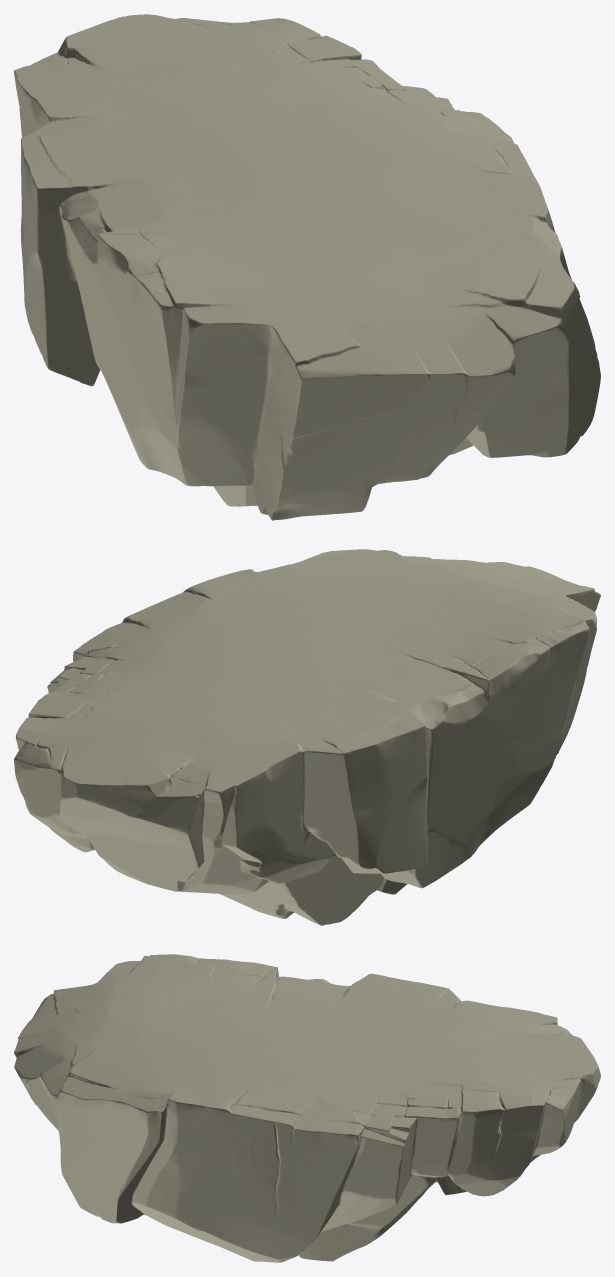
3 views of the same model, one above another, from view 1: azimuth 30°, elevation 25°; view 2: azimuth 150°, elevation 25°; view 3: azimuth 270°, elevation 25° (orthographic). The views are drawn at different scales.
Visible parts, largest first — view 1: SM_SW_Cliff_Overhang_02_LOD0; view 2: SM_SW_Cliff_Overhang_02_LOD0; view 3: SM_SW_Cliff_Overhang_02_LOD0.
Part boxes in pixels (bbox=[...]): SM_SW_Cliff_Overhang_02_LOD0: bbox=[14, 14, 600, 520]; SM_SW_Cliff_Overhang_02_LOD0: bbox=[14, 549, 600, 925]; SM_SW_Cliff_Overhang_02_LOD0: bbox=[14, 954, 600, 1262].
Size of the model in its own units: 35.05 by 22.28 by 55.14.
